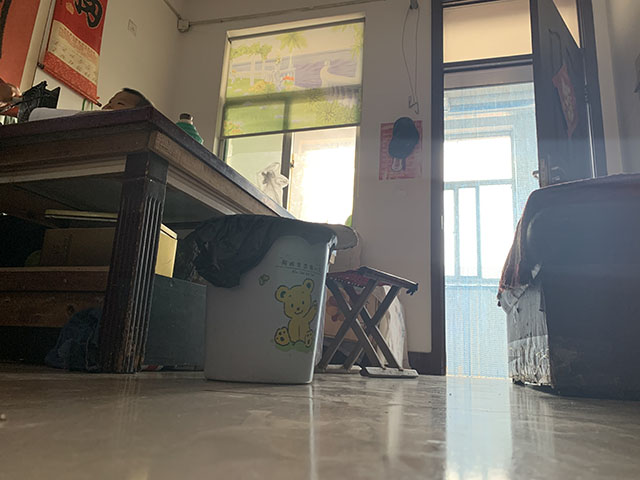bed: (495, 170, 640, 399)
stool: (313, 265, 420, 379)
table: (1, 104, 298, 375)
trashcan: (173, 212, 339, 386)
